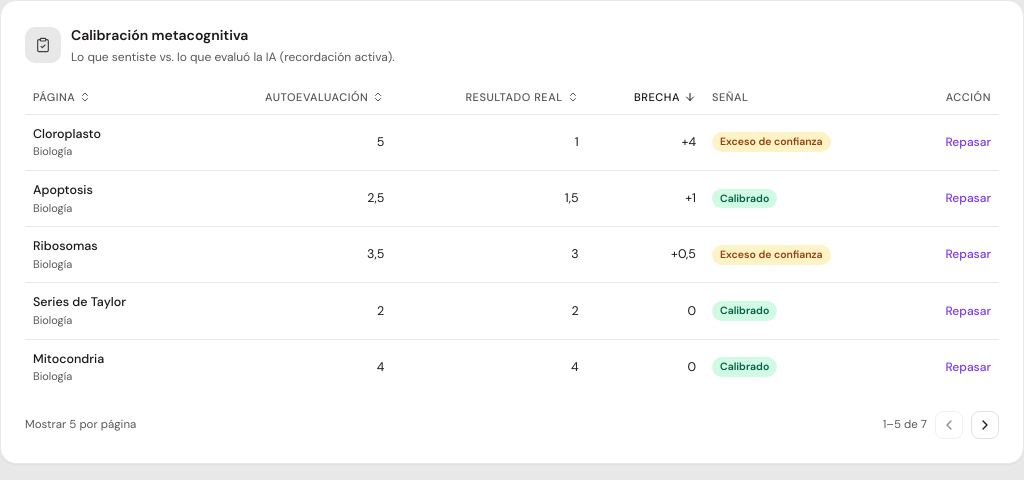
Test case: CalibrationTable › paginates five rows at a time and reports the visible range
Check: the text "1–5 de 7" is shown, box [883,416,927,433]
Check: the button named "Página anterior" is disabled, box [935,411,963,439]
Click the button named "Página siguiente" at (985, 425), box [971,411,999,439]
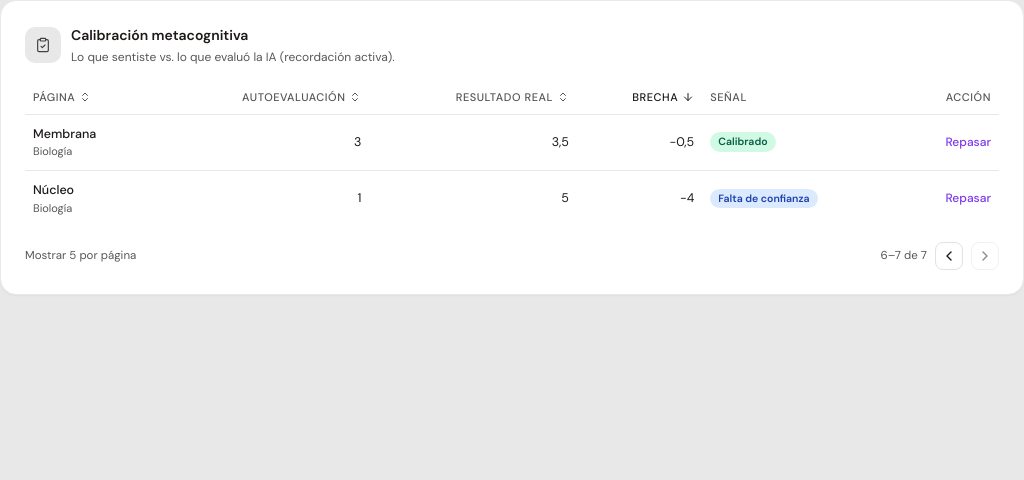
Check: the text "6–7 de 7" is shown, box [881,247,927,265]
Check: the text "Cloroplasto" is gone
Click the button named "Página anterior" at (949, 256), box [935,242,963,270]
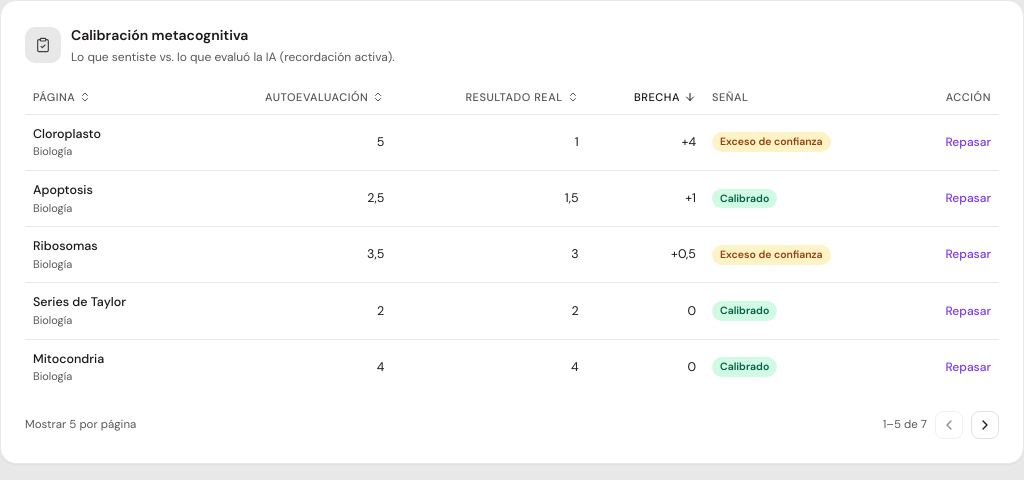
Check: the text "1–5 de 7" is shown, box [883,416,927,433]
